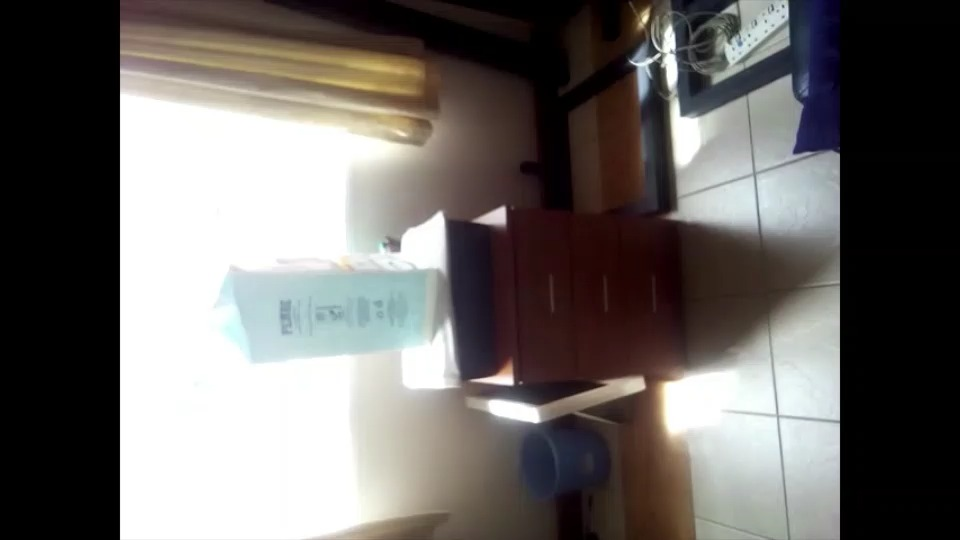wheat_flour_blue_label: (227, 248, 429, 355)
